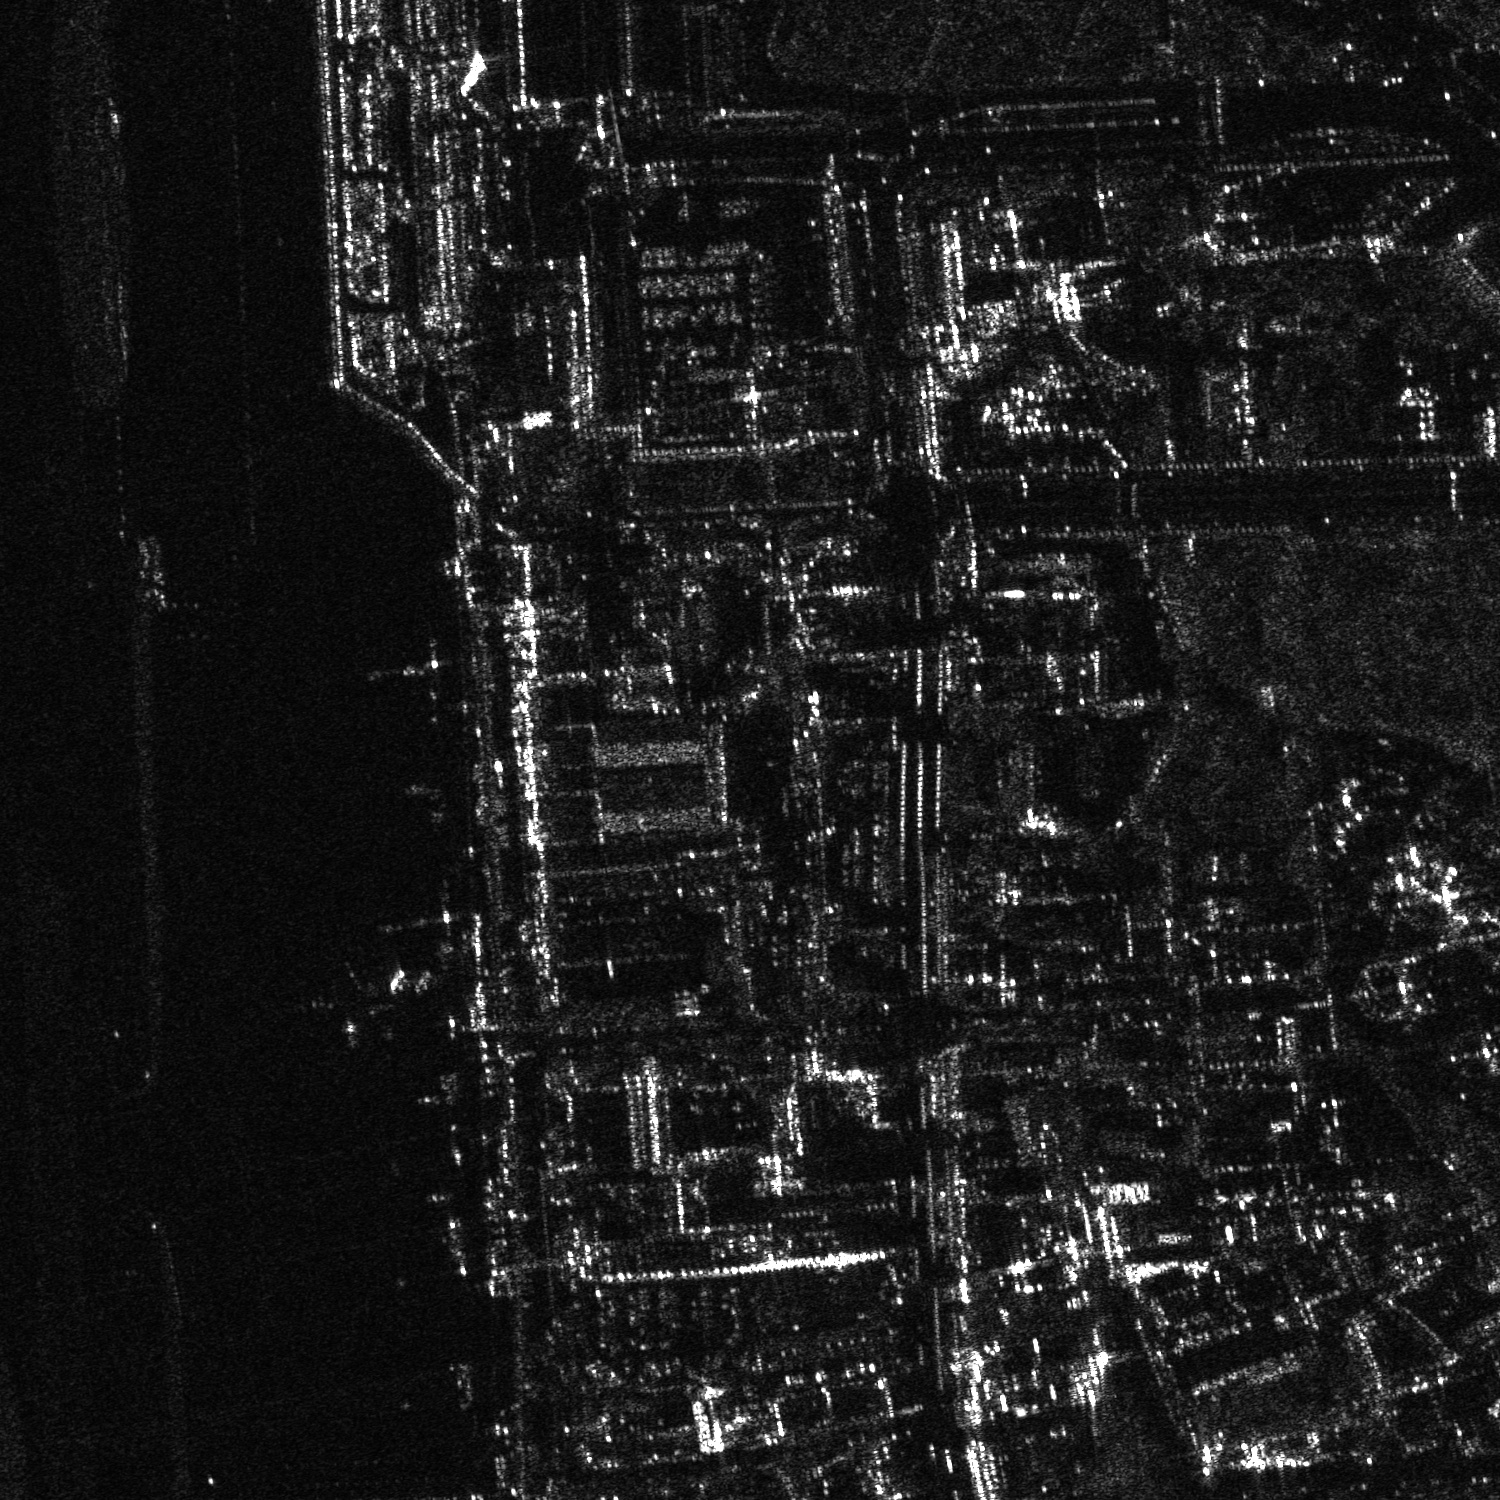A220: (293, 951, 438, 1049)
